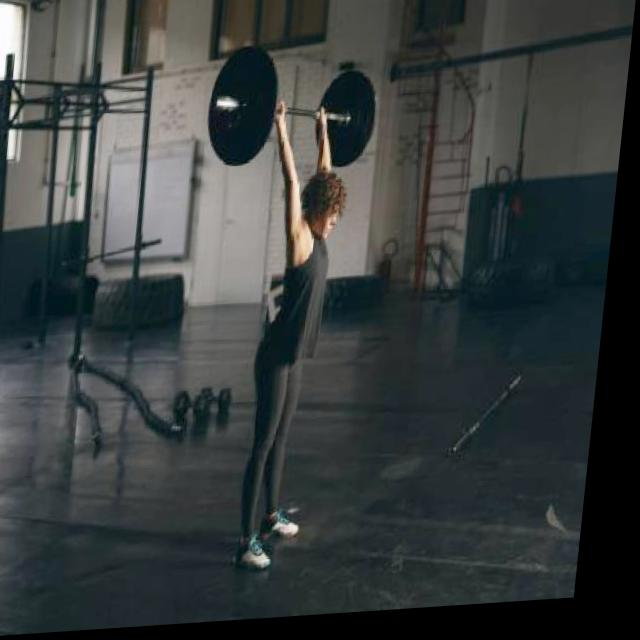barbell: (197, 40, 290, 177)
